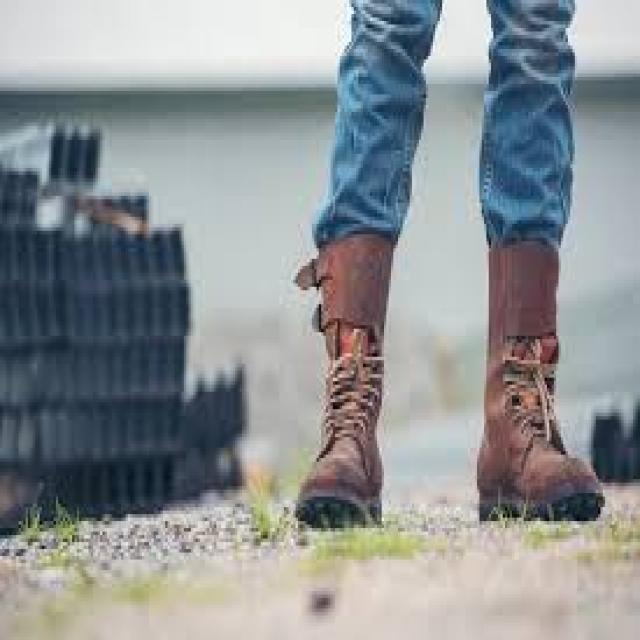shoes: (480, 246, 603, 519), (296, 235, 394, 525)
